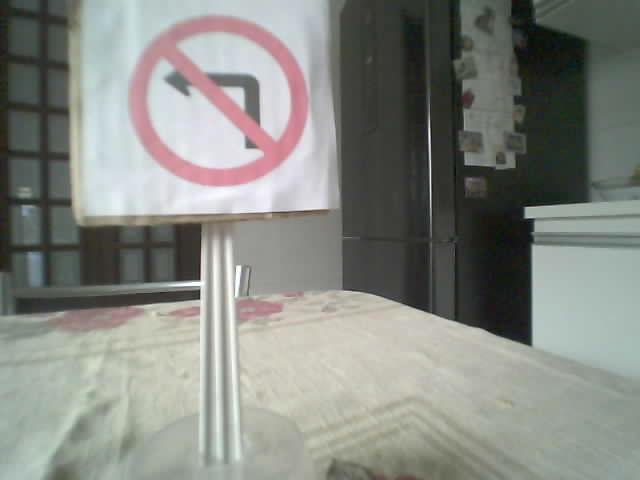R-4a_proibido-esquerda: (128, 14, 307, 187)
